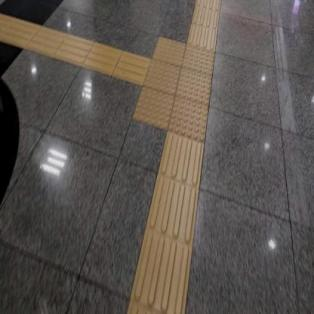Podoctatil: (126, 145, 206, 313), (123, 23, 224, 156), (0, 7, 141, 88), (186, 0, 220, 42)
